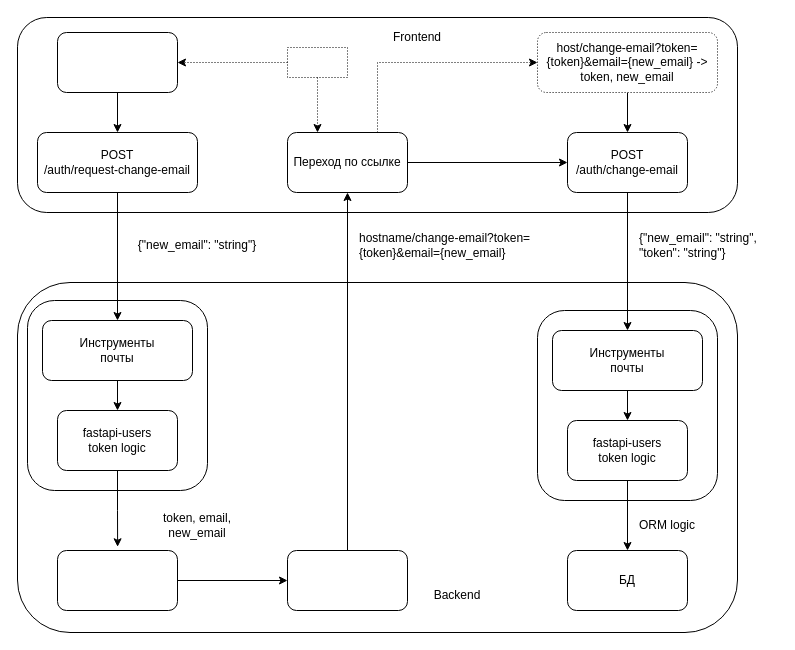
Image size: 795x650. Some labels were removed from this diagram. Each missing label, with the centre of its shape:
"UI" goes at point (317, 62).
"Запрос смены почты" goes at point (117, 62).
"Отправка письма" goes at point (117, 580).
"Почтовый сервер" goes at point (347, 580).
